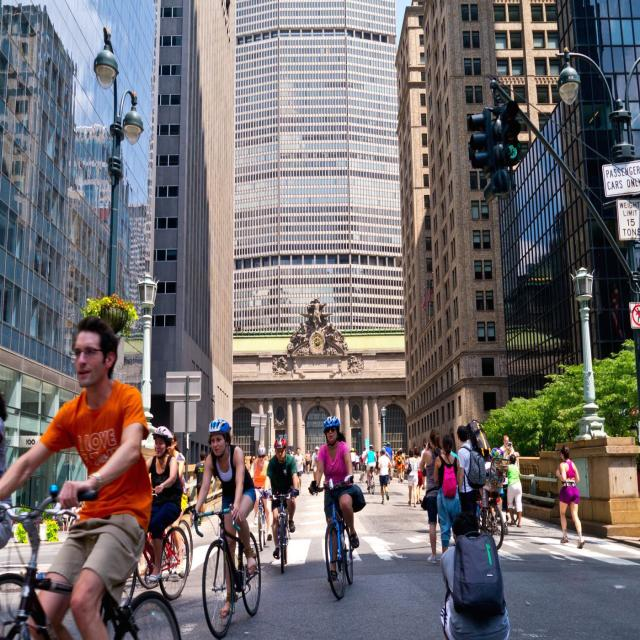body: (0, 312, 155, 639), (189, 418, 257, 618), (439, 509, 511, 640), (311, 414, 360, 584), (142, 425, 182, 583), (262, 435, 301, 560), (433, 433, 462, 555), (165, 430, 189, 576), (419, 428, 444, 565), (556, 443, 586, 551), (465, 418, 498, 513), (455, 423, 487, 512), (249, 444, 273, 541), (504, 454, 524, 528), (193, 449, 207, 526), (377, 446, 393, 505), (405, 448, 420, 507), (362, 443, 377, 490), (414, 446, 424, 504), (504, 442, 520, 478), (354, 446, 368, 482), (310, 445, 321, 489), (294, 447, 304, 493), (498, 434, 516, 458), (420, 441, 427, 490), (385, 441, 393, 481), (398, 447, 407, 482), (395, 451, 403, 484), (348, 447, 356, 476), (304, 448, 312, 475), (374, 449, 380, 475), (286, 446, 295, 457), (249, 454, 257, 466), (379, 451, 383, 457)
